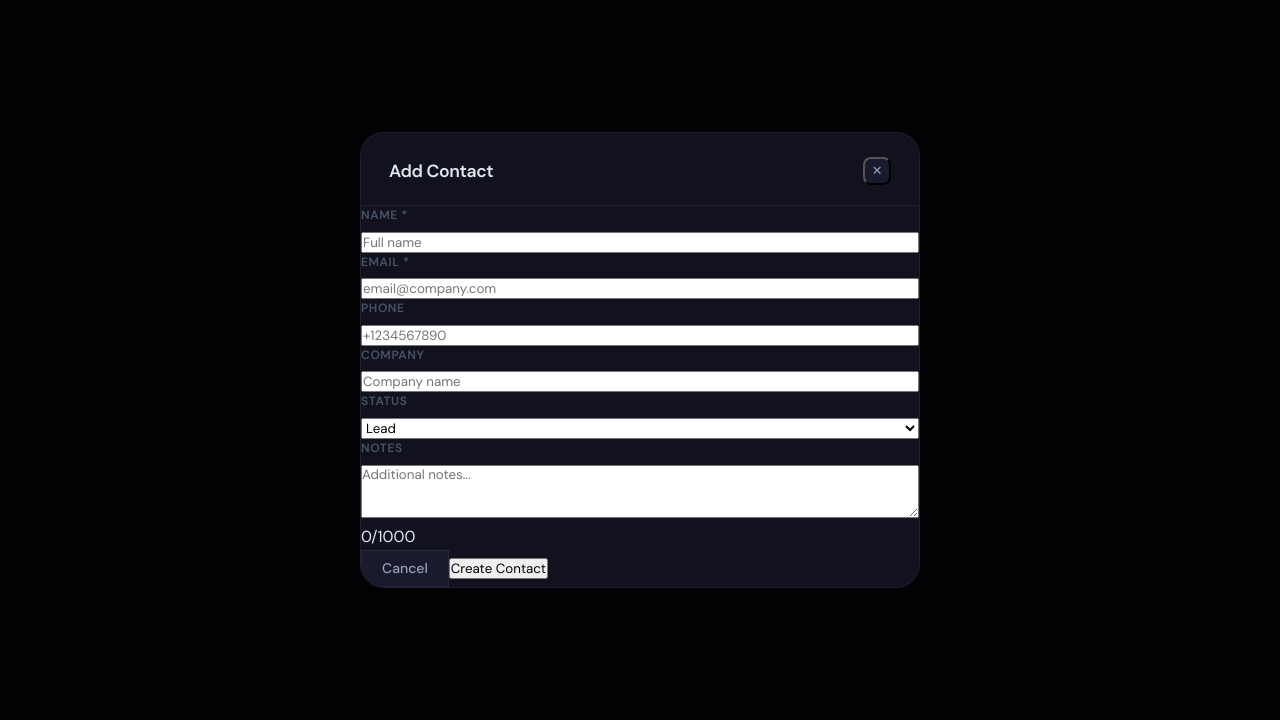
ContactModal Component › shows validation error when name is empty
Click the button "Create Contact".
click(498, 569)  # box [449,558,548,579]
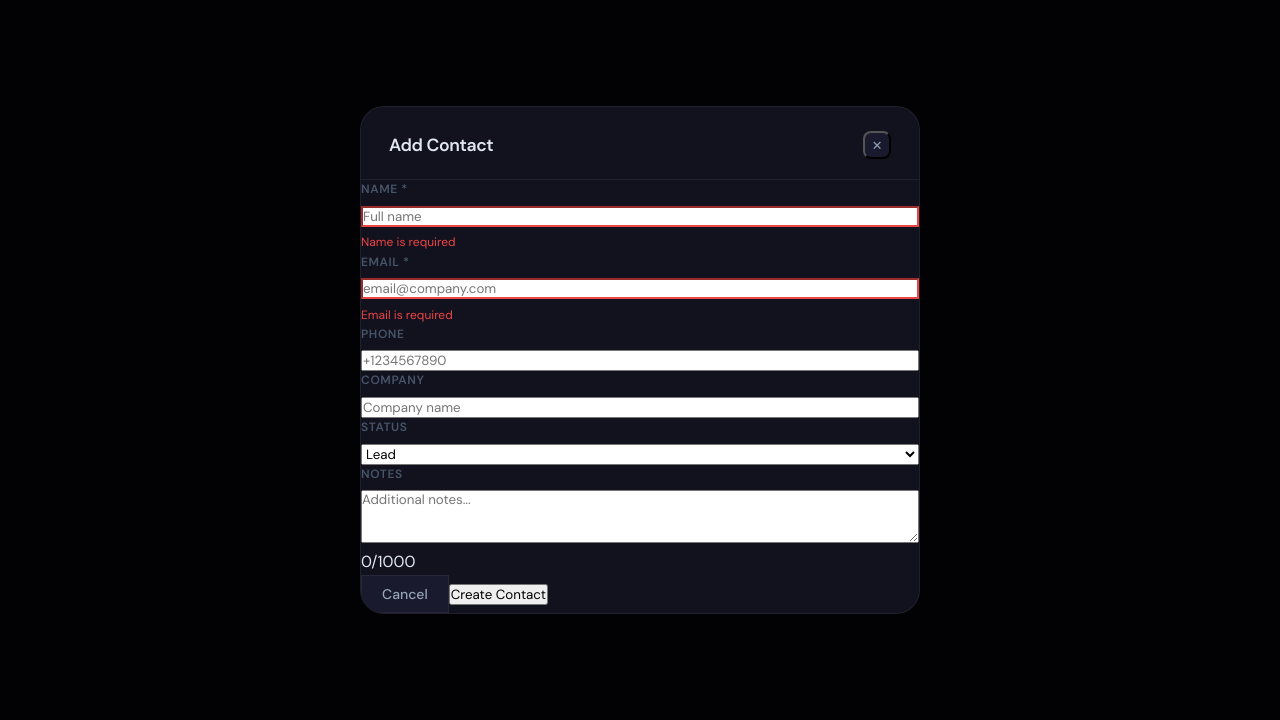
Expected: the text "Name is required" is shown, [361,234,456,250]
